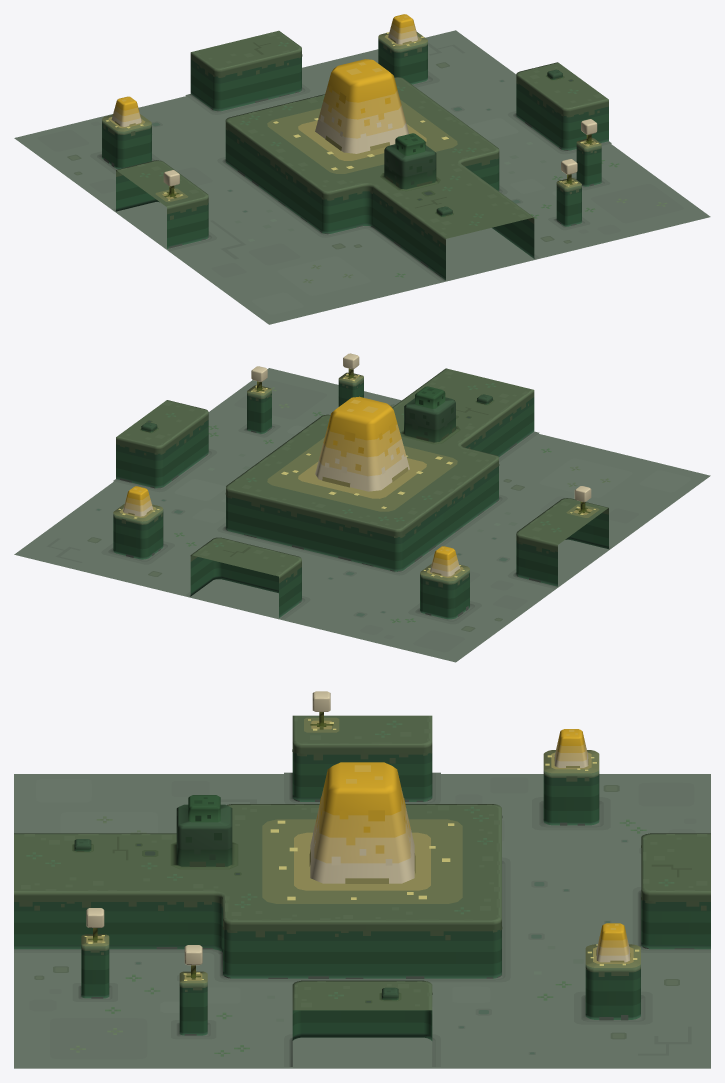
Rendered from C_cave2_08.fbx.
3 views of the same model, one above another, from view 1: azimuth 30°, elevation 25°; view 2: azimuth 150°, elevation 25°; view 3: azimuth 270°, elevation 25° (orthographic). The views are drawn at different scales.
Parts seen in each view (by area): view 1: C_cave2_08; view 2: C_cave2_08; view 3: C_cave2_08.
Boxes of the visible parts, x1,y1,x2,y2 form: C_cave2_08: [14, 14, 710, 324]; C_cave2_08: [14, 353, 710, 662]; C_cave2_08: [14, 691, 710, 1068].
Bounding box in the file's own units: 50 × 11.65 × 50.
